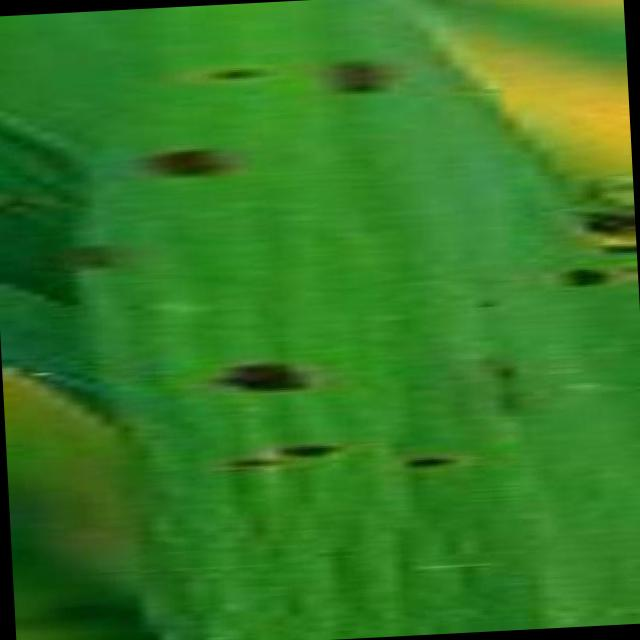Rice_Brownspot: (191, 339, 327, 410), (116, 129, 245, 194), (308, 38, 406, 118), (174, 48, 294, 94), (532, 246, 622, 305), (65, 228, 126, 284), (386, 442, 479, 475), (268, 430, 347, 468), (565, 465, 615, 516), (484, 379, 536, 422), (218, 448, 286, 479), (456, 282, 506, 314), (484, 356, 524, 382), (116, 293, 142, 316)
